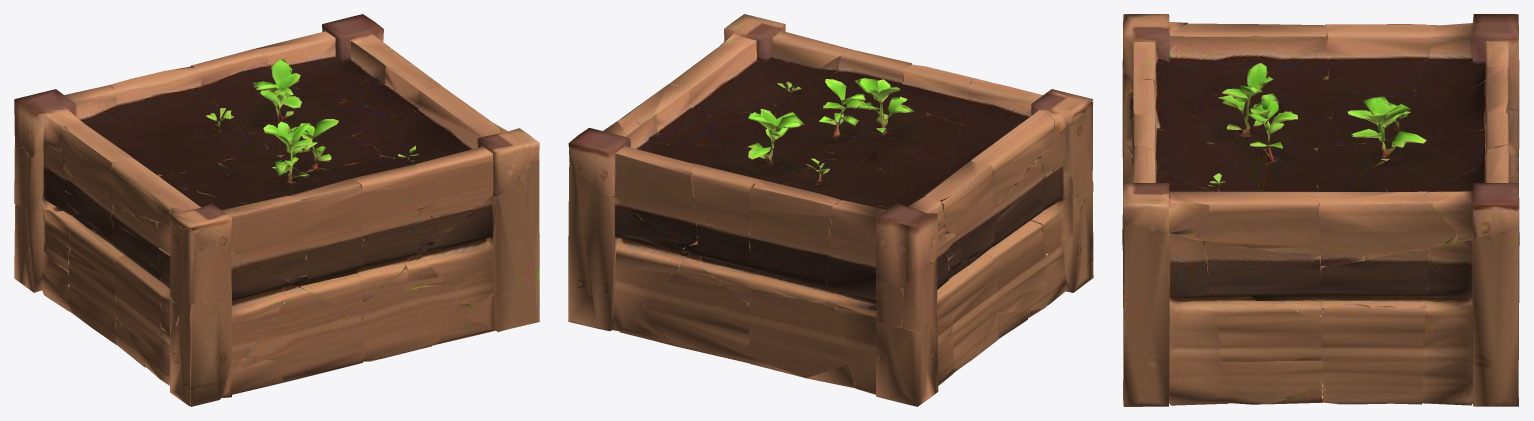
File: farm_planter.glb
The picture shows the model from 3 angles, left to right: view 1: azimuth 30°, elevation 25°; view 2: azimuth 150°, elevation 25°; view 3: azimuth 270°, elevation 25°; orthographic projection. The views are drawn at different scales.
Visible parts, largest first — view 1: Mesh_0; view 2: Mesh_0; view 3: Mesh_0.
Part boxes in pixels (<box>): Mesh_0: <box>14,14,539,406</box>; Mesh_0: <box>568,14,1093,406</box>; Mesh_0: <box>1122,14,1519,406</box>.
Bounding box in the file's own units: 1.9 × 1.08 × 1.66.
Materials: 1 (1 with a texture image).
